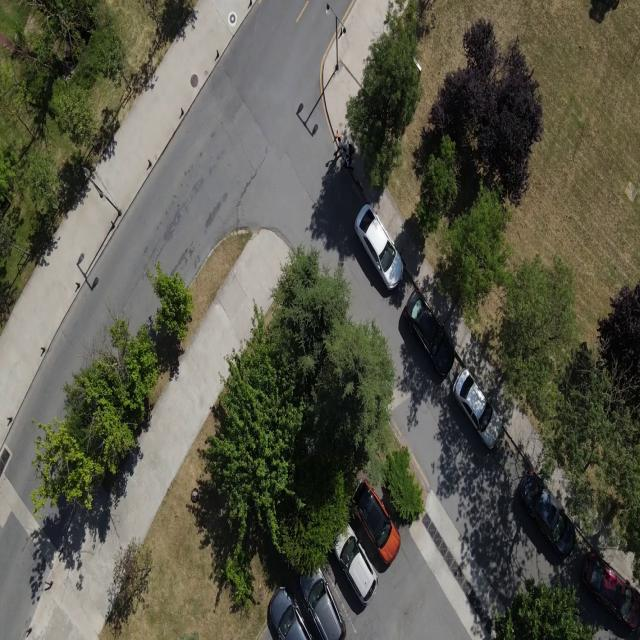p3rson: (333, 134, 347, 156), (342, 153, 353, 171), (346, 142, 355, 157)
